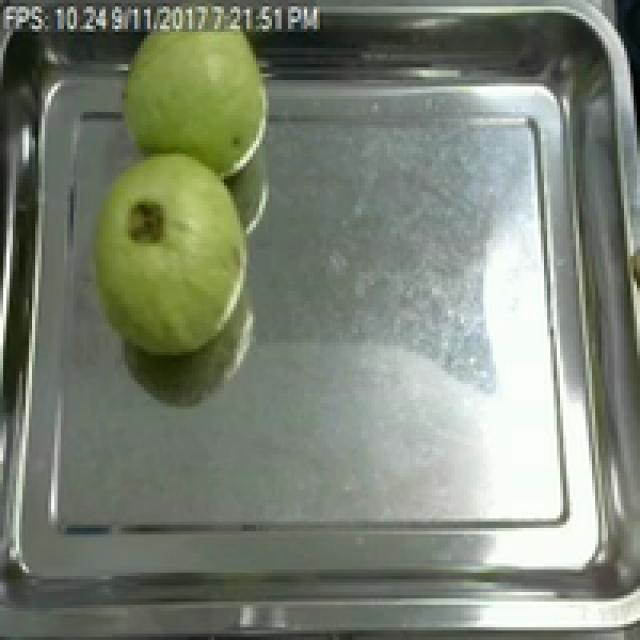Fruit: (74, 141, 262, 365), (112, 19, 282, 182)
